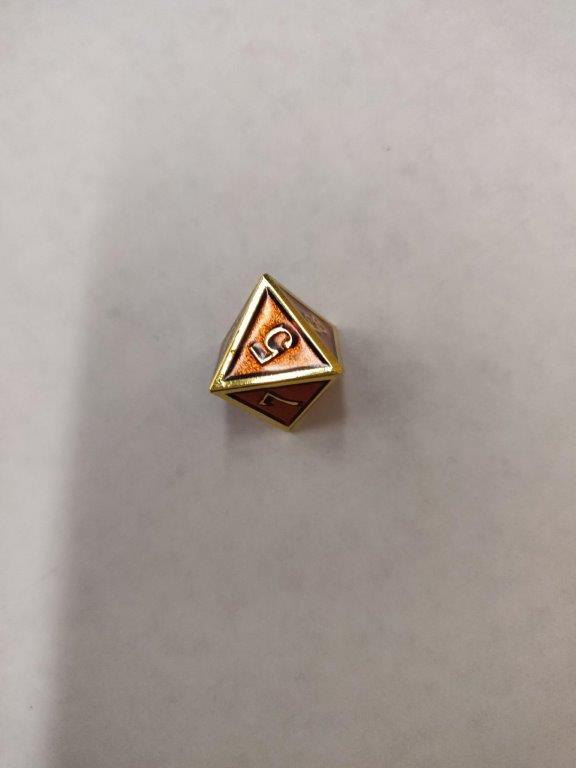d8-5: (205, 273, 345, 438)
